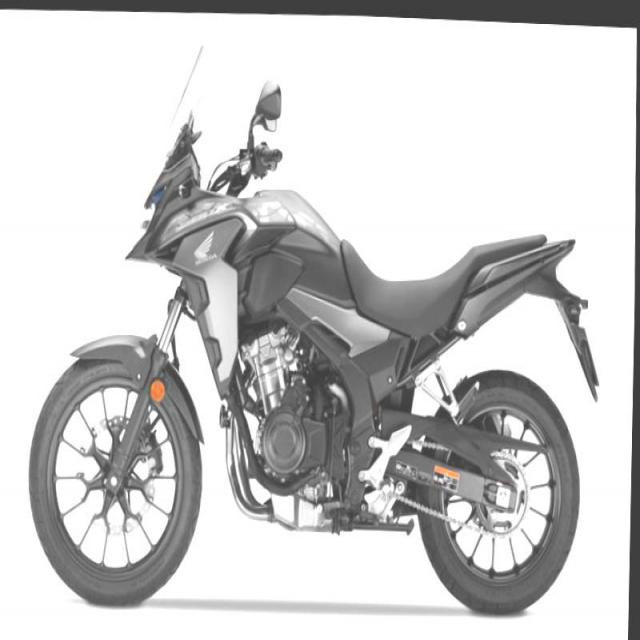CB500X: (22, 22, 608, 625)
